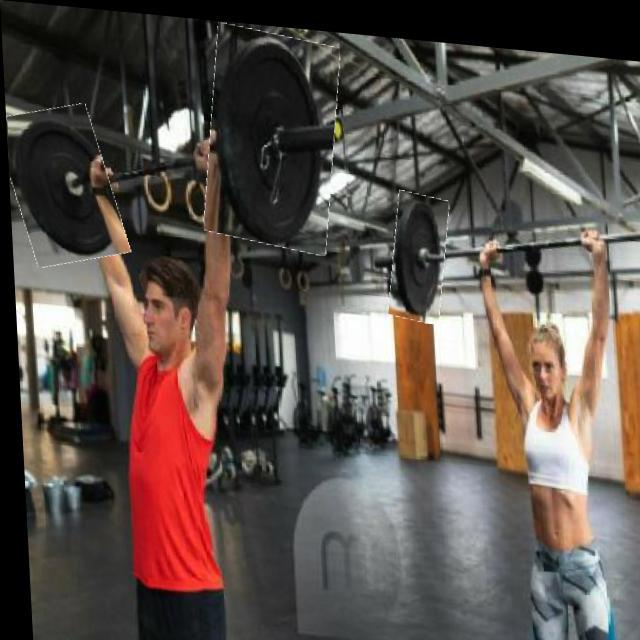barbell: (200, 21, 343, 249), (5, 102, 122, 269), (385, 183, 449, 317)
